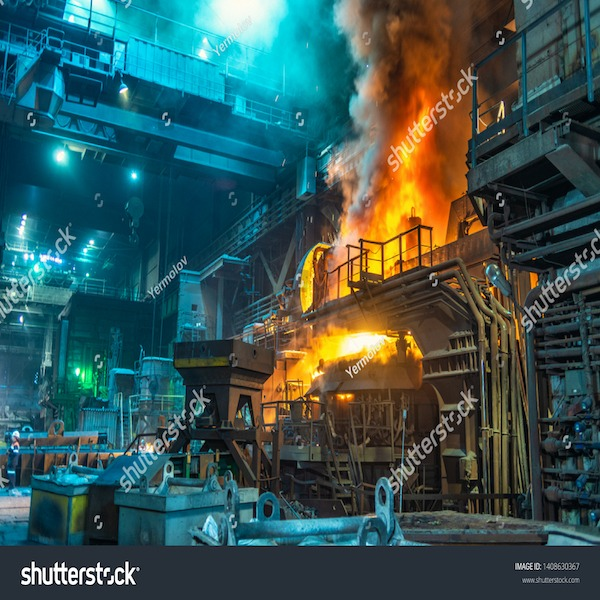fire: (383, 65, 454, 210), (364, 168, 448, 259), (323, 333, 392, 358)
